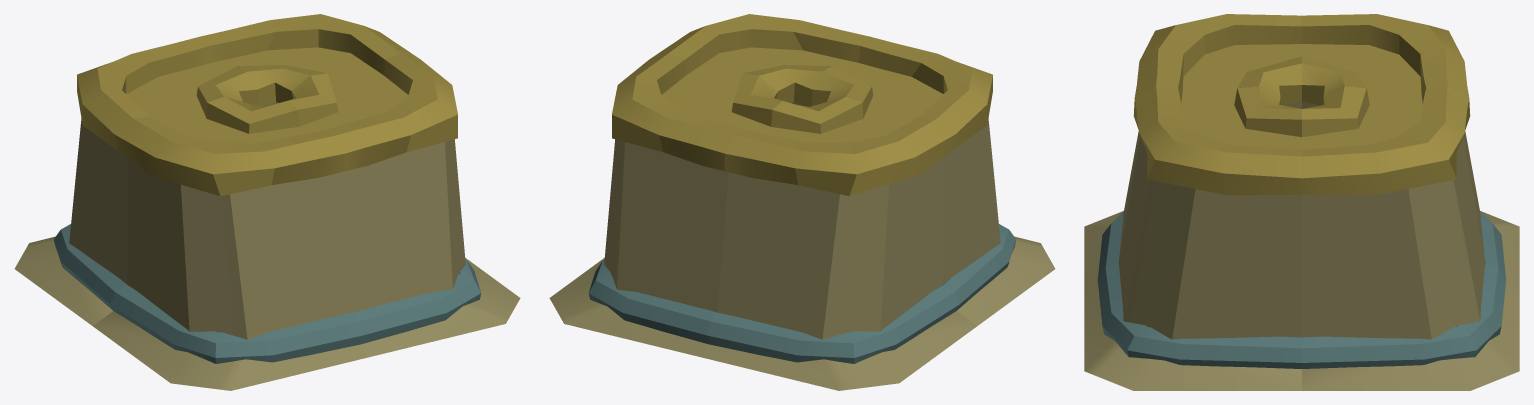
The model's file is Int_2x2_Island.fbx.
3 renders of one model, left to right at view 1: azimuth 30°, elevation 25°; view 2: azimuth 150°, elevation 25°; view 3: azimuth 270°, elevation 25°, orthographic. The views are drawn at different scales.
Parts seen in each view (by area): view 1: Int_2x2_Island; view 2: Int_2x2_Island; view 3: Int_2x2_Island.
Boxes of the visible parts, x1,y1,x2,y2 form: Int_2x2_Island: [14, 14, 520, 390]; Int_2x2_Island: [549, 14, 1055, 390]; Int_2x2_Island: [1084, 14, 1519, 390].
Bounding box in the file's own units: 2 × 1.09 × 2.
